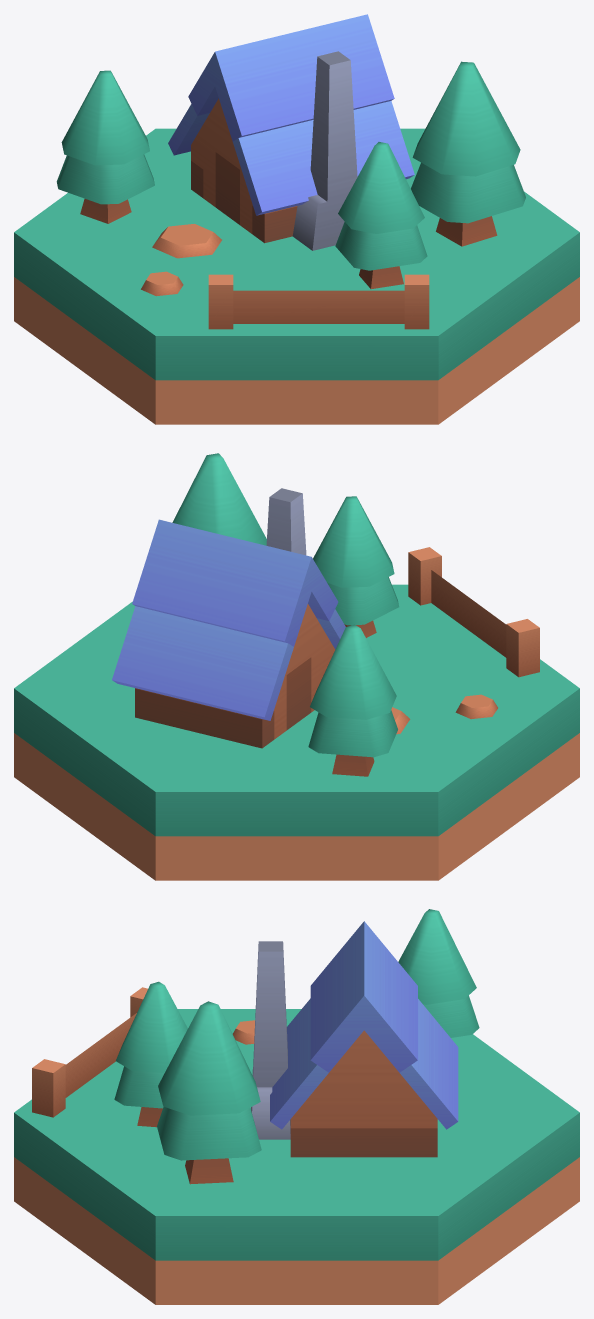
Rendered from building-house.fbx.
3 views of the same model, one above another, from view 1: azimuth 30°, elevation 25°; view 2: azimuth 150°, elevation 25°; view 3: azimuth 270°, elevation 25° (orthographic).
Parts seen in each view (by area): view 1: building_house; view 2: building_house; view 3: building_house.
Part boxes in pixels (x1,y1,x2,y2): building_house: (14, 14, 579, 424); building_house: (14, 453, 579, 880); building_house: (14, 909, 579, 1304).
Bounding box in the file's own units: 100 × 60 × 115.
1 material, 1 textured.
